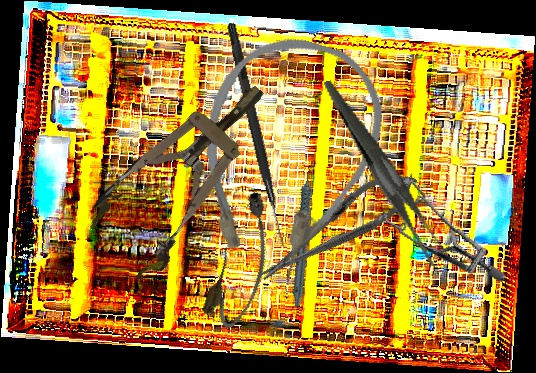Cannula: (169, 19, 401, 296), (199, 186, 288, 334)
Dressing Forceps: (323, 63, 450, 281)
Handpiece: (263, 160, 348, 309)
Hook Surgical: (223, 21, 291, 249)
Needle Holder: (249, 158, 427, 295)
Speculum: (77, 58, 296, 287), (366, 155, 507, 316)
